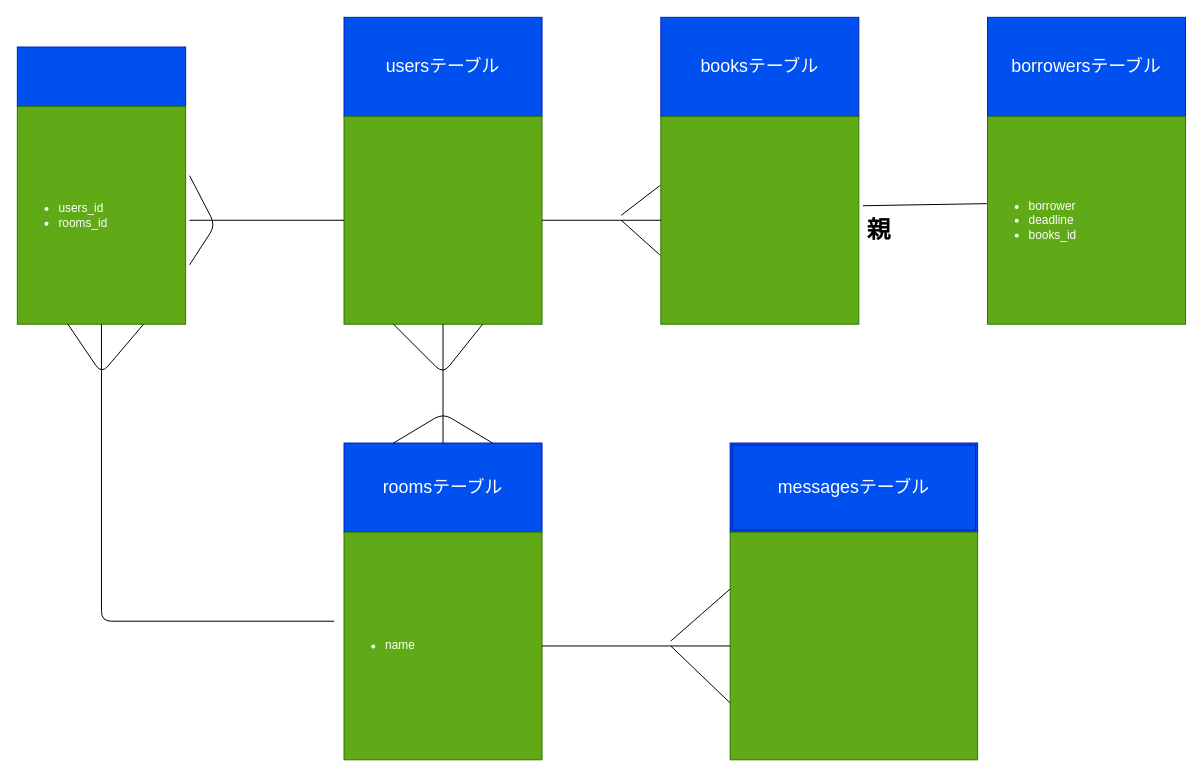
The diagram is 1203 pixels wide and 777 high, and some of its shapes have lost their labels. The shapes that lost their labels are listed below. From the top down, each one's centre as x and y in pixels, then its label:
At point (101, 76): "users_roomsテーブル".
At point (442, 219): "nickname age email password".
At point (759, 219): "name topic genre publisher user_id".
At point (853, 645): "message rooms_id".
